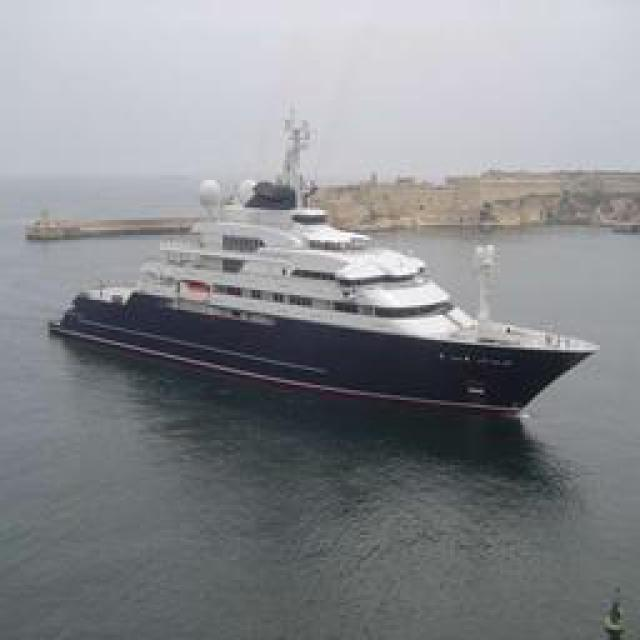Ship: (49, 180, 604, 423)
